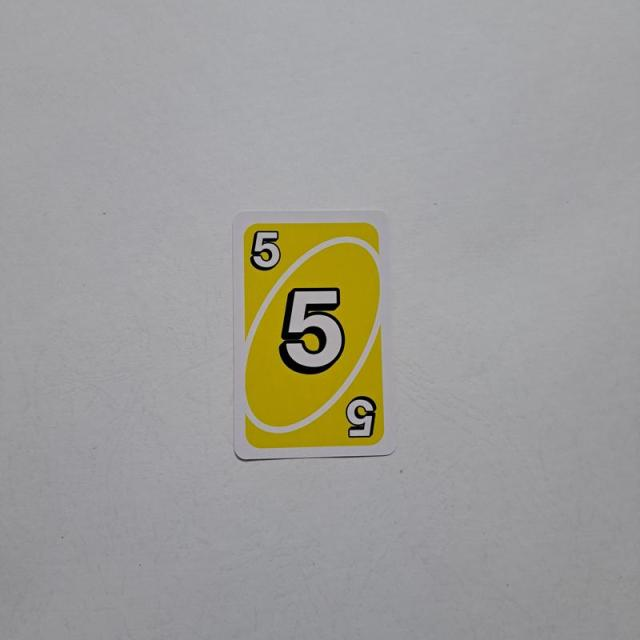Number_5: (250, 228, 286, 272)
Yellow_Card: (240, 218, 392, 457)
